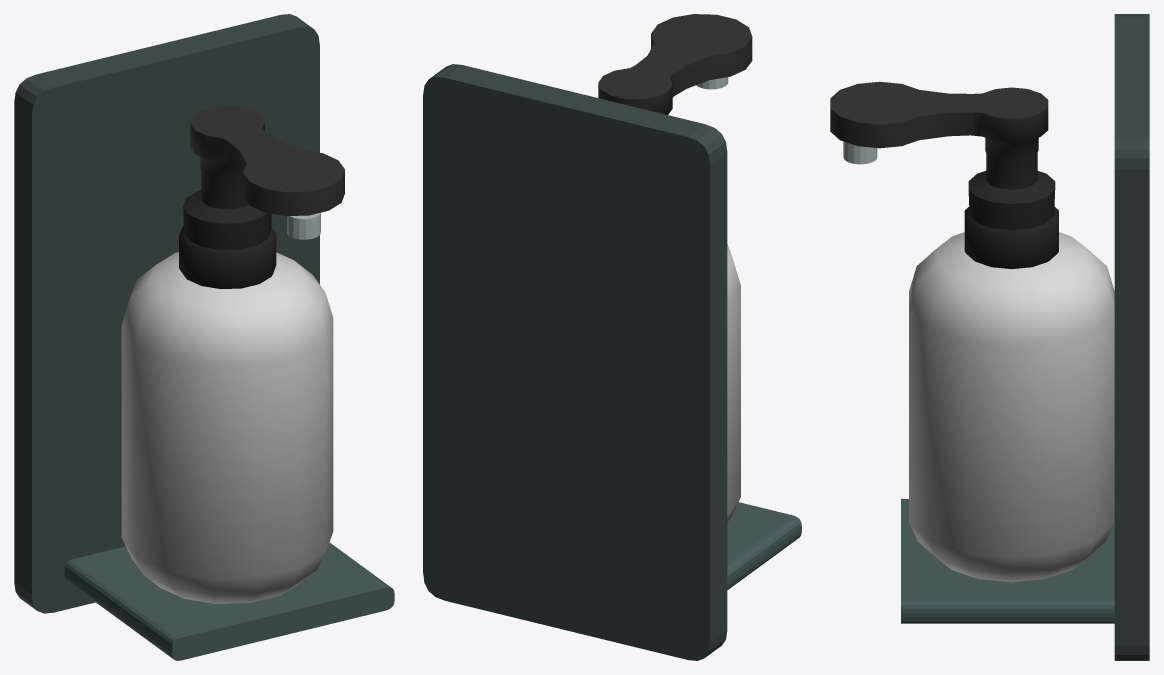
3 views of the same model, side by side, from view 1: azimuth 30°, elevation 25°; view 2: azimuth 150°, elevation 25°; view 3: azimuth 270°, elevation 25° (orthographic).
Parts seen in each view (by area): view 1: dispenser-wall-back, dispenser-housing, dispenser-bottle-cradle, dispenser-actuator, dispenser-outlet; view 2: dispenser-wall-back, dispenser-actuator, dispenser-bottle-cradle, dispenser-housing; view 3: dispenser-housing, dispenser-wall-back, dispenser-bottle-cradle, dispenser-actuator, dispenser-outlet.
Part boxes in pixels (x1,y1,x2,y2): dispenser-wall-back: (14,14,319,613); dispenser-housing: (121,171,333,603); dispenser-bottle-cradle: (64,542,394,660); dispenser-actuator: (190,106,344,216); dispenser-outlet: (287,212,320,239); dispenser-wall-back: (423,64,727,660); dispenser-actuator: (598,14,752,114); dispenser-bottle-cradle: (727,502,801,589); dispenser-housing: (727,244,740,522); dispenser-housing: (909,153,1114,582); dispenser-wall-back: (1114,14,1149,660); dispenser-bottle-cradle: (901,499,1114,623); dispenser-actuator: (830,81,1048,161); dispenser-outlet: (843,141,877,164).
Size of the model in its own units: 0.132 by 0.23 by 0.1276.
Materials: 4 (1 with a texture image).
